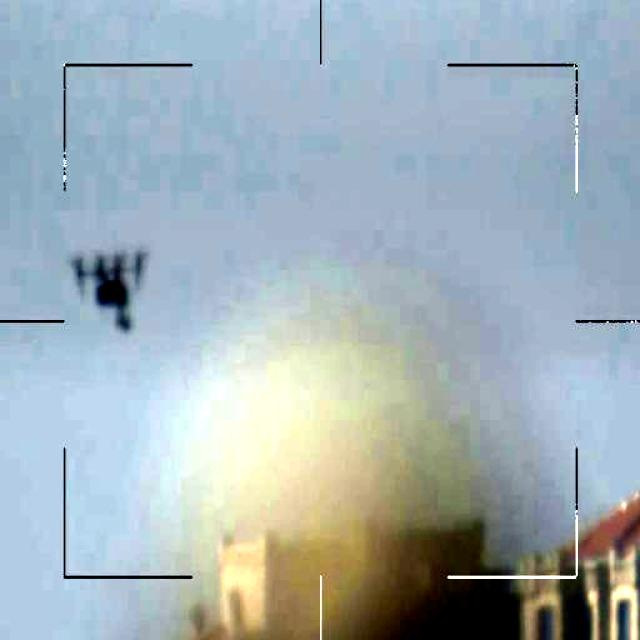bird: (64, 242, 150, 329)
